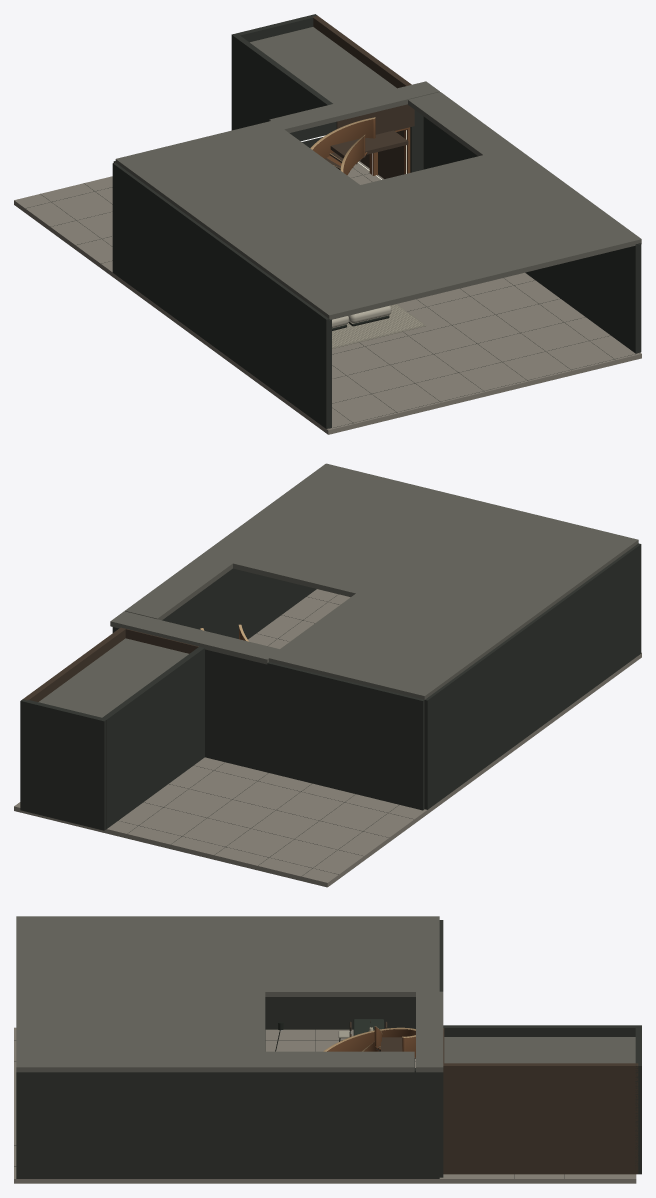
Rendered from sofia-space-v1.glb.
The picture shows the model from 3 angles, top to bottom: view 1: azimuth 30°, elevation 25°; view 2: azimuth 150°, elevation 25°; view 3: azimuth 270°, elevation 25°; orthographic projection.
Visible parts, largest first — view 1: Ceiling west plane, Continuous stone floor, West wall, Ceiling entrance plane, East wall, Gallery ceiling, Gallery left wall, Ceiling far strip, Ceiling east strip, Gallery right wall, Woven rug backing, Gallery end wall (+4 smaller); view 2: Ceiling west plane, Continuous stone floor, West wall, Back wall left of passage, Ceiling entrance plane, Gallery left wall, Gallery end wall, East wall, Gallery ceiling, Ceiling far strip, Ceiling east strip, Gallery right wall (+1 smaller); view 3: East wall, Ceiling west plane, Gallery right wall, Ceiling entrance plane, Continuous stone floor, Gallery ceiling, West wall, Ceiling east strip, Gallery left wall, Ceiling far strip, Continuous outer bronze balustrade, Gallery end wall (+2 smaller).
Part boxes in pixels (<box>): Ceiling west plane: <box>115,120,485,319</box>; Continuous stone floor: <box>14,161,641,434</box>; West wall: <box>112,162,331,428</box>; Ceiling entrance plane: <box>359,147,641,282</box>; East wall: <box>423,116,641,353</box>; Gallery ceiling: <box>250,27,396,103</box>; Gallery left wall: <box>233,34,332,129</box>; Ceiling far strip: <box>269,81,439,132</box>; Ceiling east strip: <box>408,92,515,156</box>; Gallery right wall: <box>312,15,411,178</box>; Woven rug backing: <box>332,304,425,348</box>; Gallery end wall: <box>231,14,317,130</box>; Ceiling west plane: <box>268,502,638,699</box>; Continuous stone floor: <box>14,589,641,887</box>; West wall: <box>424,543,641,809</box>; Back wall left of passage: <box>205,649,424,810</box>; Ceiling entrance plane: <box>200,463,482,597</box>; Gallery left wall: <box>101,646,204,829</box>; Gallery end wall: <box>20,699,105,830</box>; East wall: <box>112,568,316,639</box>; Gallery ceiling: <box>38,638,188,717</box>; Ceiling far strip: <box>110,611,279,664</box>; Ceiling east strip: <box>125,555,232,620</box>; Gallery right wall: <box>22,627,125,701</box>; East wall: <box>16,1068,439,1178</box>; Ceiling west plane: <box>16,916,439,996</box>; Gallery right wall: <box>443,1063,638,1174</box>; Ceiling entrance plane: <box>16,992,265,1072</box>; Continuous stone floor: <box>14,1027,636,1183</box>; Gallery ceiling: <box>444,1037,635,1063</box>; West wall: <box>265,997,415,1029</box>; Ceiling east strip: <box>265,1051,414,1072</box>; Gallery left wall: <box>443,1025,638,1036</box>; Ceiling far strip: <box>416,991,443,1072</box>; Continuous outer bronze balustrade: <box>327,1029,415,1056</box>; Gallery end wall: <box>635,1025,641,1174</box>.
Size of the model in its own units: 14.48 by 5.18 by 25.23.
